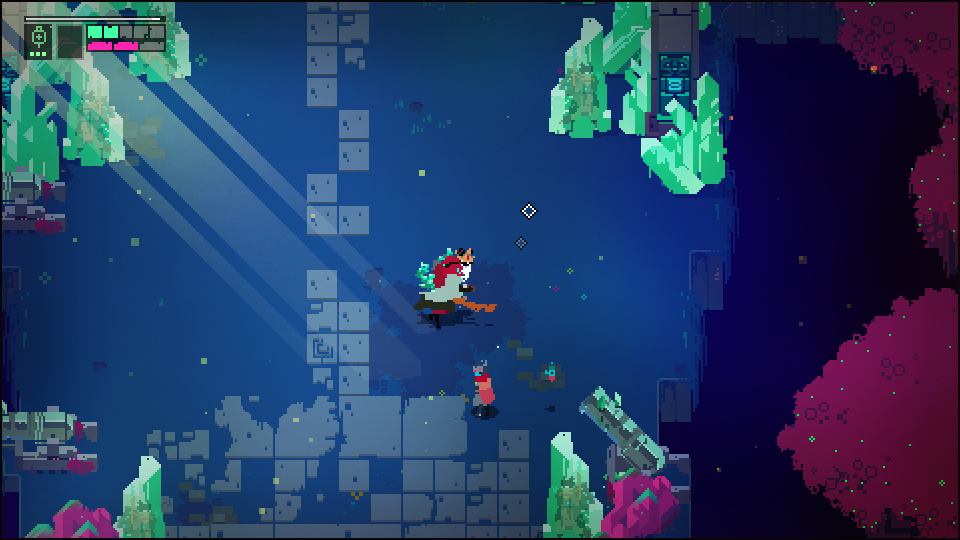hanged_man: (414, 246, 495, 324)
player: (469, 365, 497, 412)
